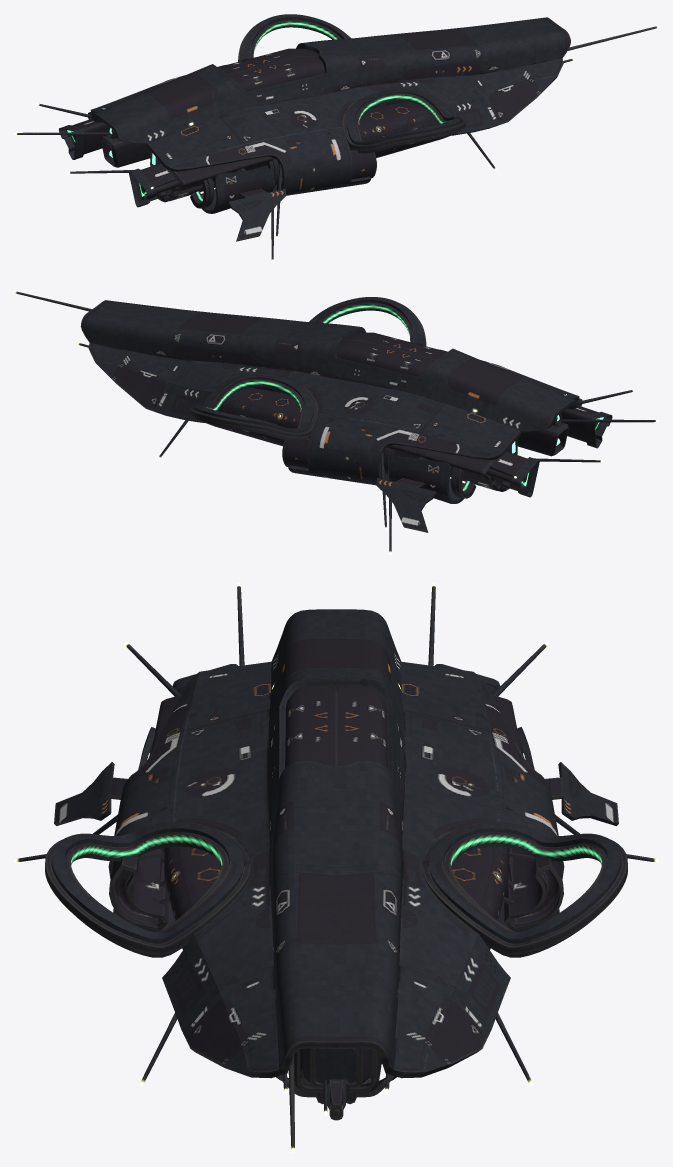
File: archont.glb
3 views of the same model, one above another, from view 1: azimuth 30°, elevation 25°; view 2: azimuth 150°, elevation 25°; view 3: azimuth 270°, elevation 25° (orthographic). The views are drawn at different scales.
Visible parts, largest first — view 1: Object_2, Object_3, Object_4; view 2: Object_2, Object_3, Object_4; view 3: Object_2, Object_3, Object_4.
Part boxes in pixels (x1,y1,x2,y2): Object_2: (59,17,570,207); Object_3: (111,14,658,213); Object_4: (14,58,574,262); Object_2: (80,300,612,497); Object_3: (14,291,557,503); Object_4: (76,342,658,554); Object_2: (108,609,564,1120); Object_3: (45,727,627,1152); Object_4: (14,583,658,1104).
Bounding box in the file's own units: 21.7 × 4.05 × 10.89.
1 material, 1 textured.
